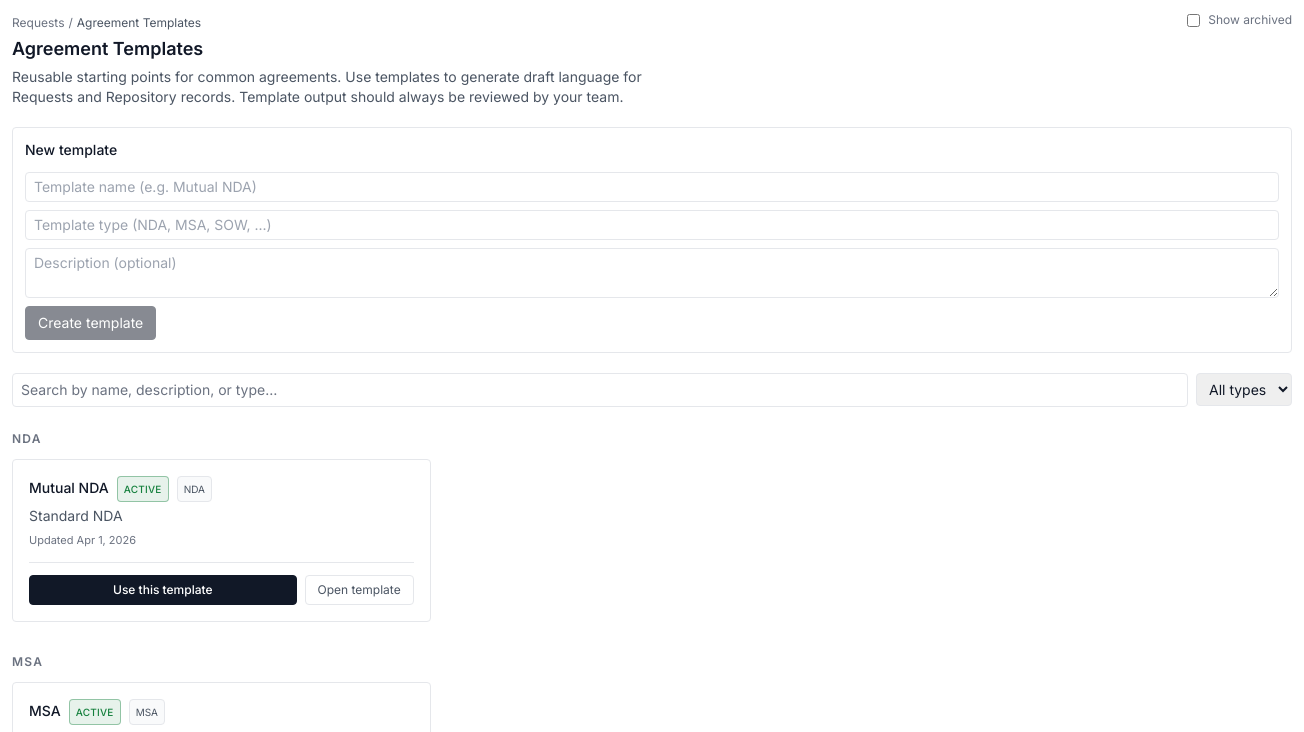
Scenario: AgreementTemplatesPage › search by name filters the catalog
This screenshot has width=1304, height=732.
Check: the text "Mutual NDA" is shown, box [29, 478, 109, 498]
Type "Mutual" into the search field with test id "agreement-templates-search" at (600,390), box [12, 372, 1188, 406]
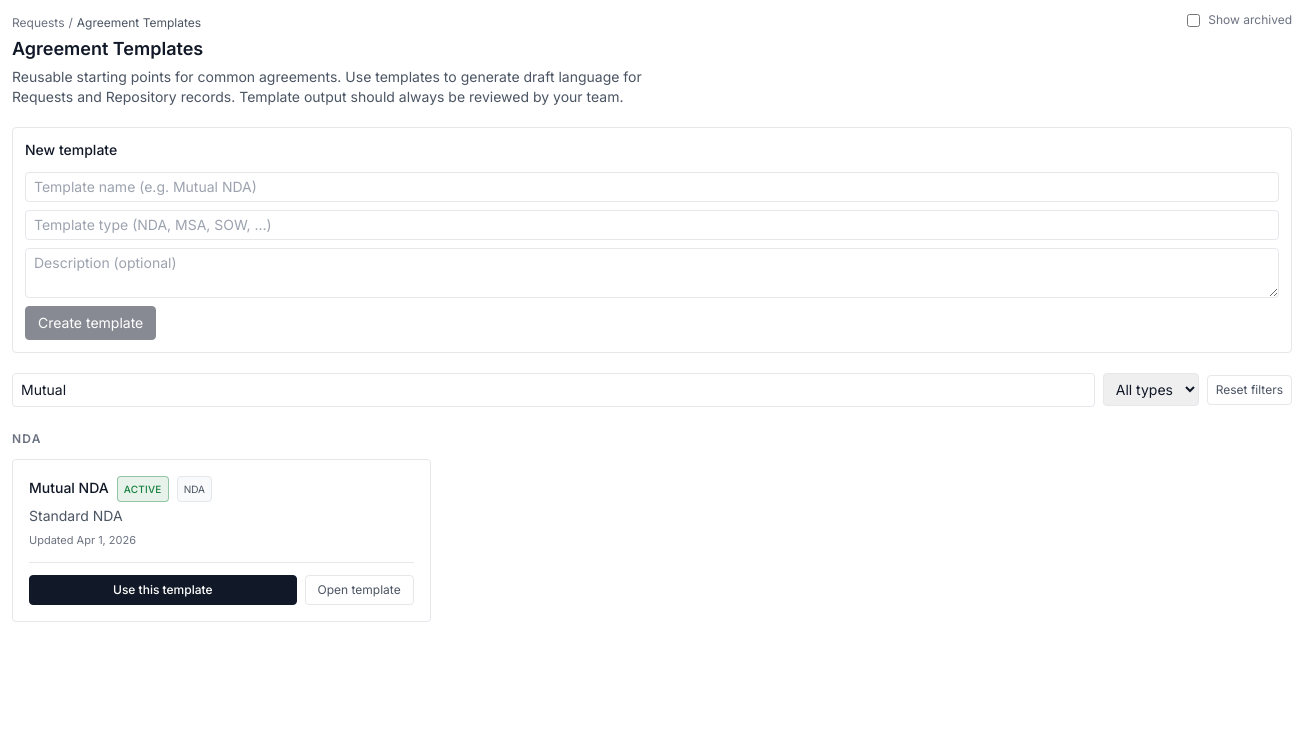
Check: the text "Mutual NDA" is shown, box [29, 478, 109, 498]
Check: the heading with test id "agreement-templates-group-heading" no longer shows "MSA"
